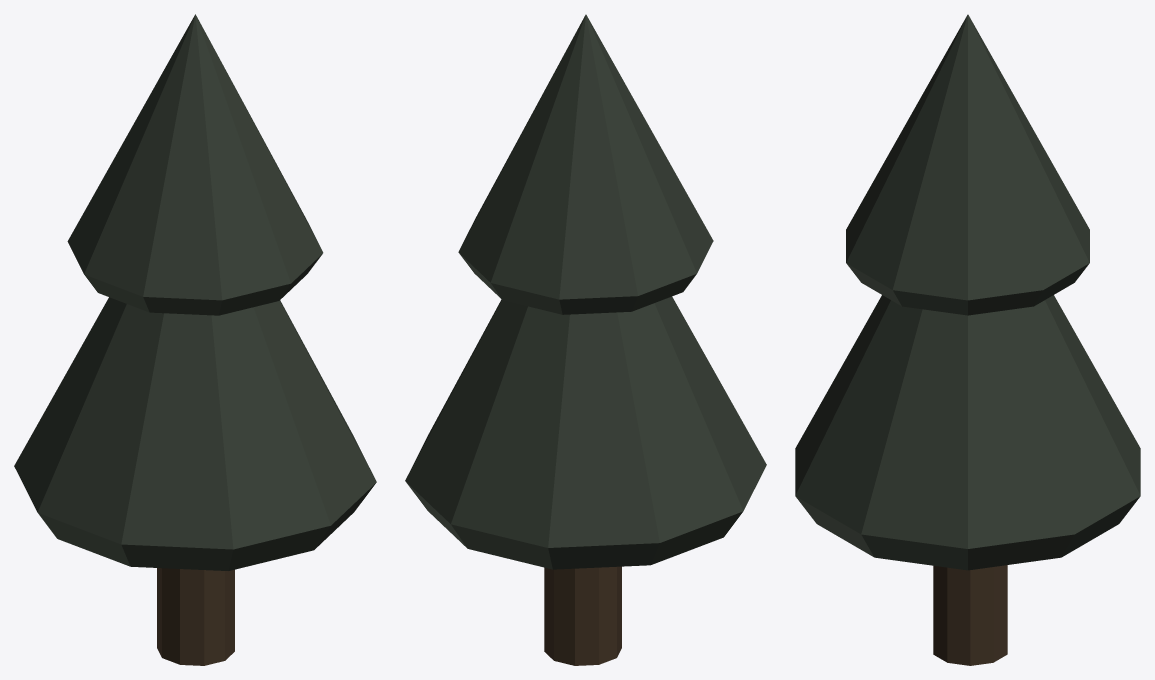
The model's file is Tree 1.fbx.
3 renders of one model, left to right at view 1: azimuth 30°, elevation 25°; view 2: azimuth 150°, elevation 25°; view 3: azimuth 270°, elevation 25°, orthographic.
Visible parts, largest first — view 1: polySurface1630; view 2: polySurface1630; view 3: polySurface1630.
Boxes of the visible parts, box(x1,y1,x2,y2) form: polySurface1630: box(14, 14, 376, 665); polySurface1630: box(405, 14, 766, 665); polySurface1630: box(795, 14, 1140, 665).
Bounding box in the file's own units: 26.05 × 50.21 × 24.78.
